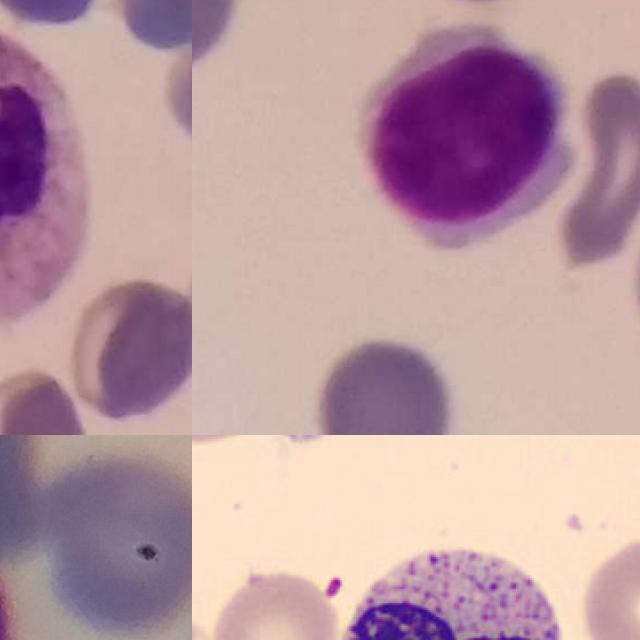Lymphocyte: (354, 19, 575, 257)
Monocyte: (325, 530, 576, 640)
Neutrophil: (0, 34, 88, 329)
Platelets: (279, 435, 329, 449)
RBC: (205, 564, 349, 640), (574, 531, 640, 640)
